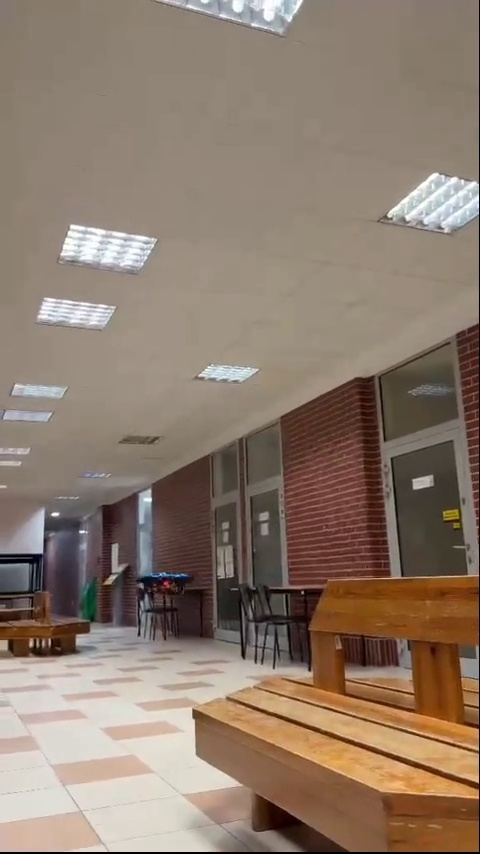drone: (139, 569, 200, 589)
